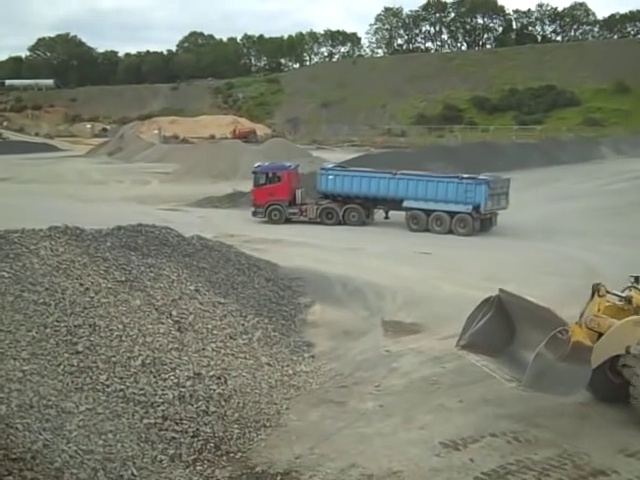truck: (251, 162, 511, 235)
wheel loader: (453, 272, 640, 421)
